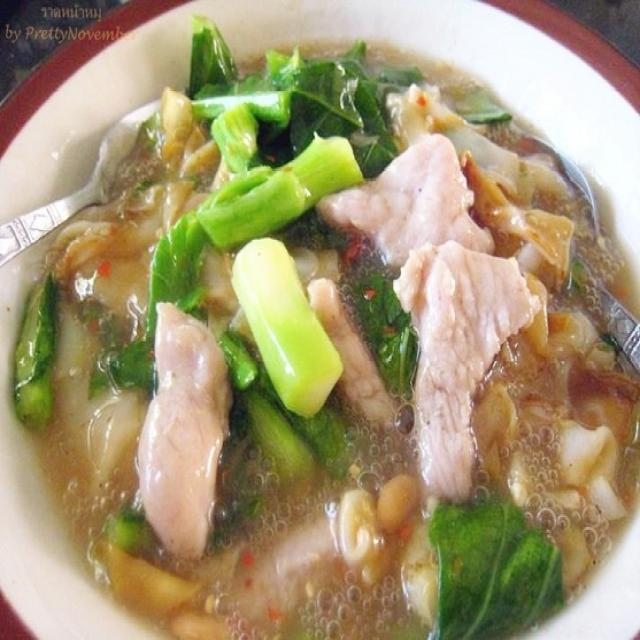面条主食: (30, 20, 632, 613)
